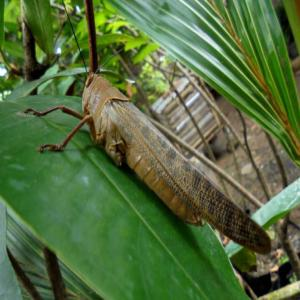locust: (56, 29, 276, 261)
